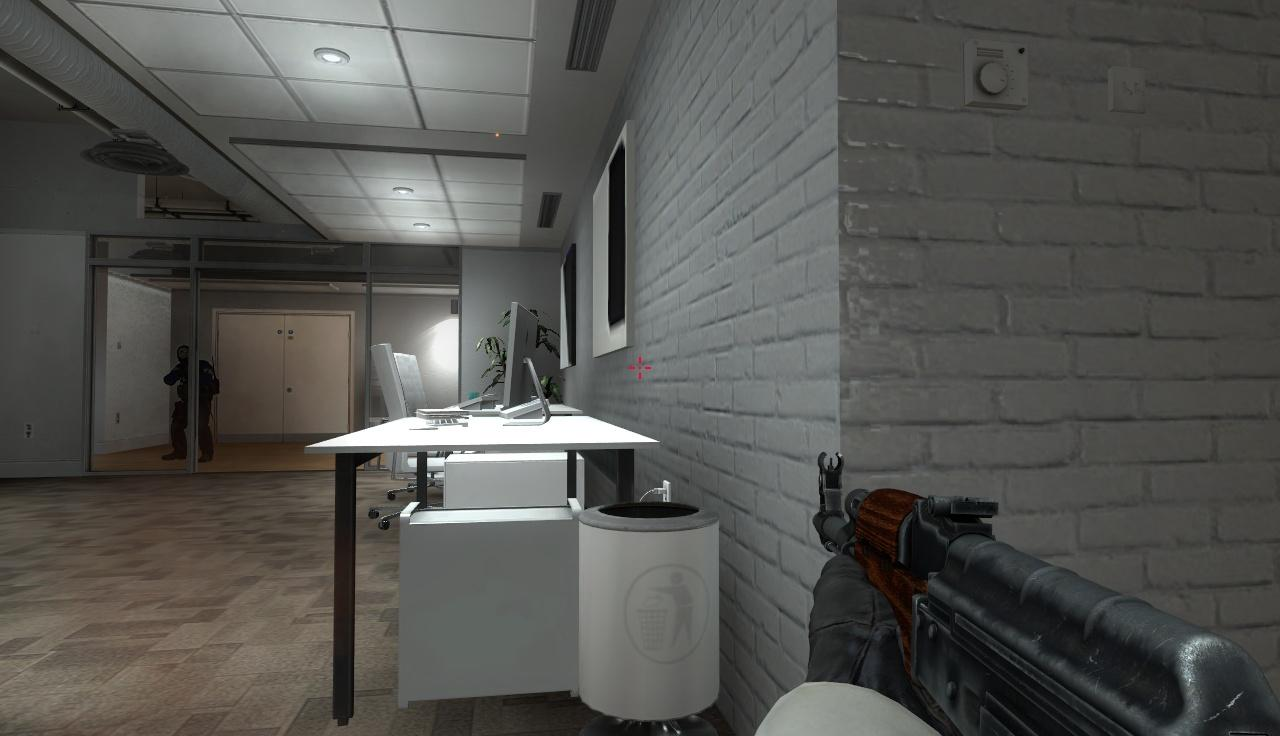ct: (164, 345, 216, 463)
cthead: (177, 345, 191, 363)
rifle: (799, 447, 1280, 736)
